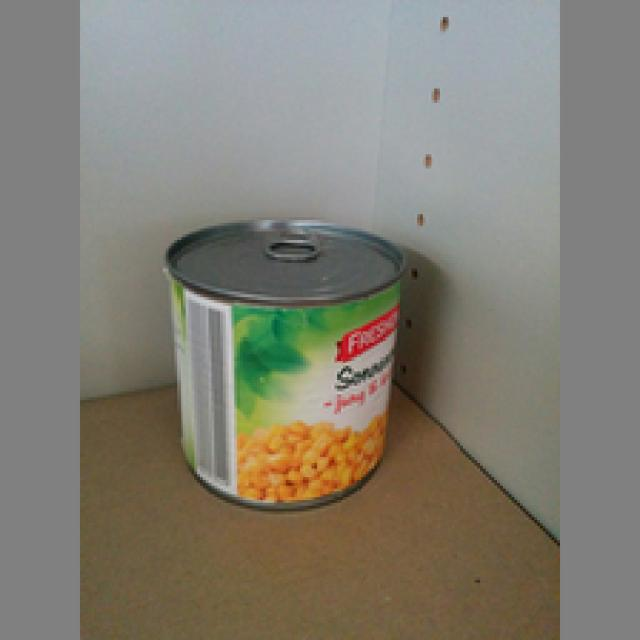groceries: (157, 214, 403, 512)
